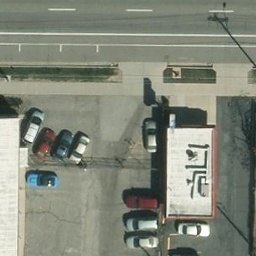car: (21, 109, 45, 141), (141, 119, 161, 151), (32, 127, 53, 157), (52, 129, 73, 159), (68, 133, 89, 163), (25, 171, 60, 186), (178, 222, 211, 237), (126, 233, 159, 248), (125, 216, 158, 231), (126, 194, 159, 209)
